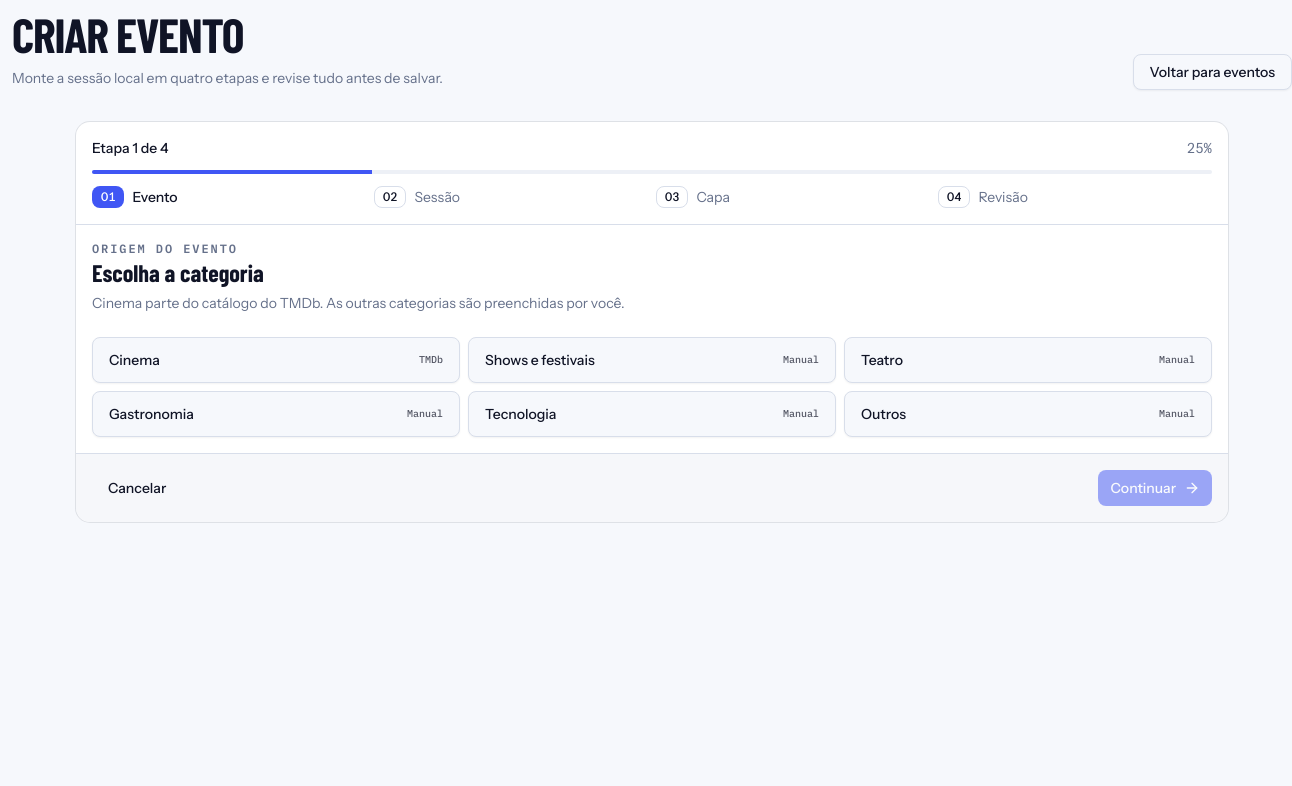
Test: EventCreationForm › shows compact movie choices and advances only after a selection
Click the button with aria-label "Cinema, catálogo TMDb".
click(134, 360)  # box [92,337,460,383]
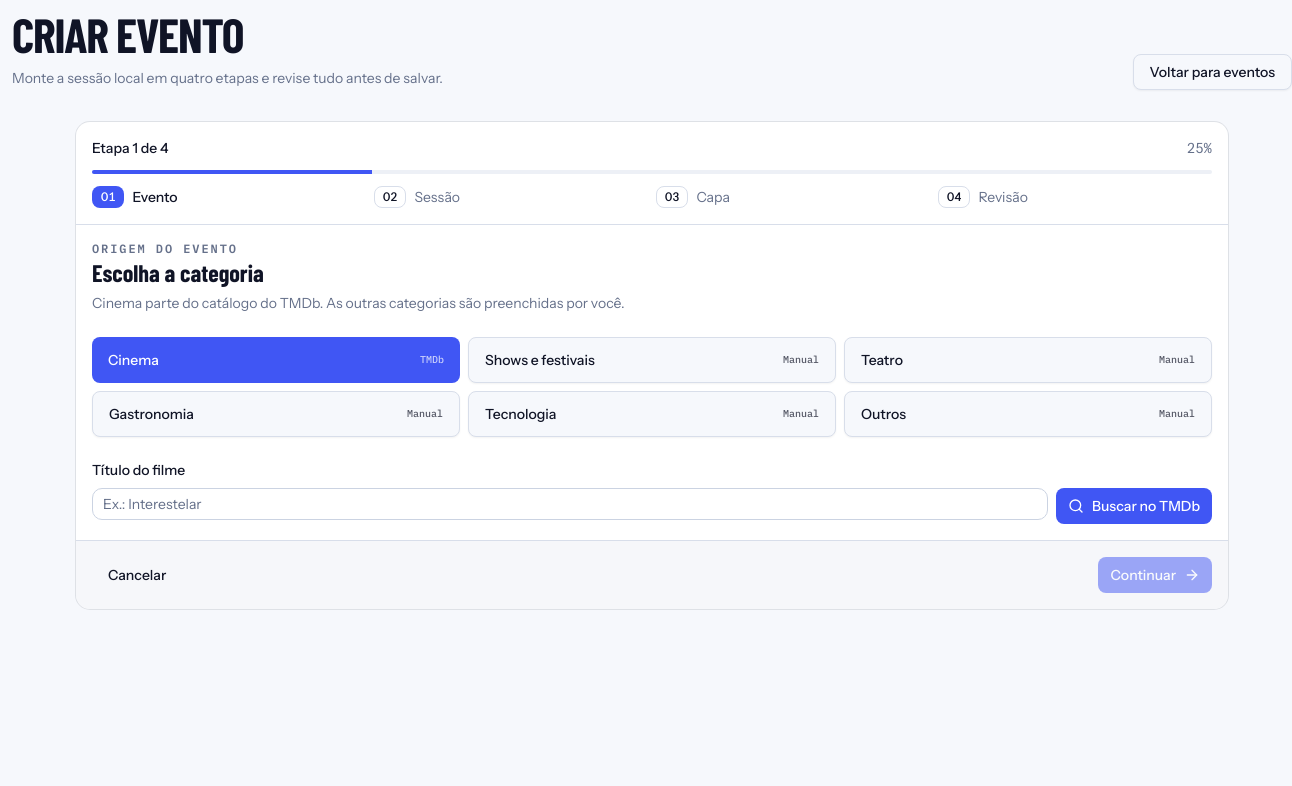
Type "Mario" into the field labelled "Título do filme".
click(570, 504); type("Mario")  # box [92,488,1048,520]
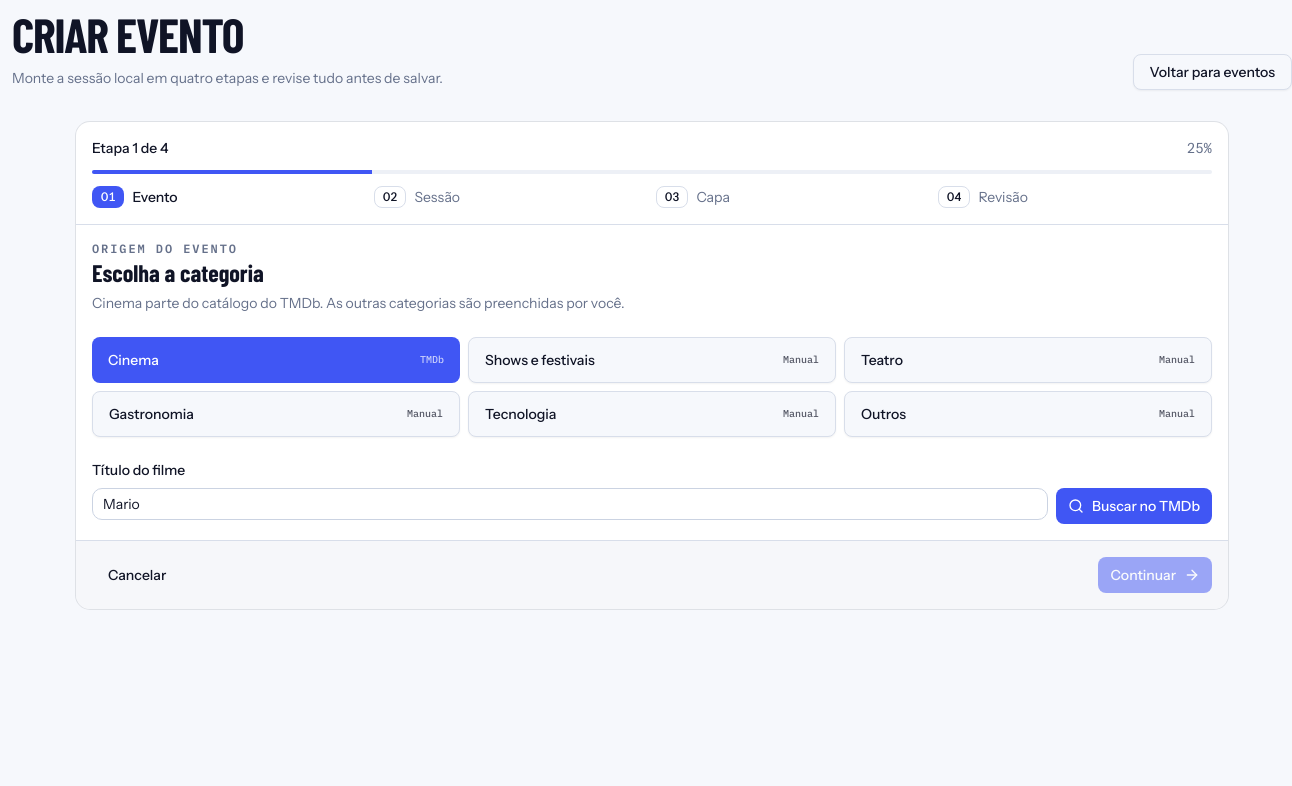
Click the button "Buscar no TMDb".
click(1134, 506)  # box [1056,488,1212,524]
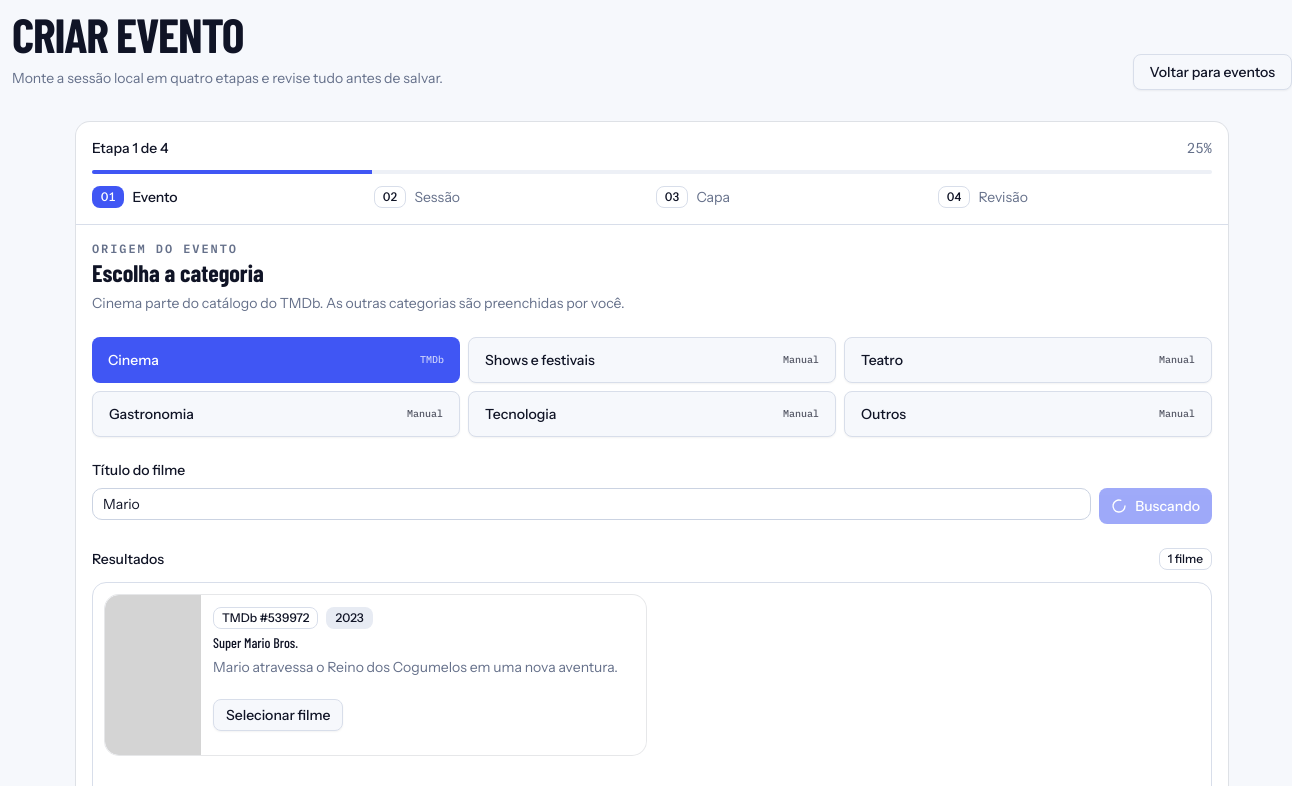
Result: the text "Super Mario Bros." is shown at [213,634,298,651]
Click the button "Selecionar filme".
click(278, 715)  # box [213,699,344,731]
(page scrolled)
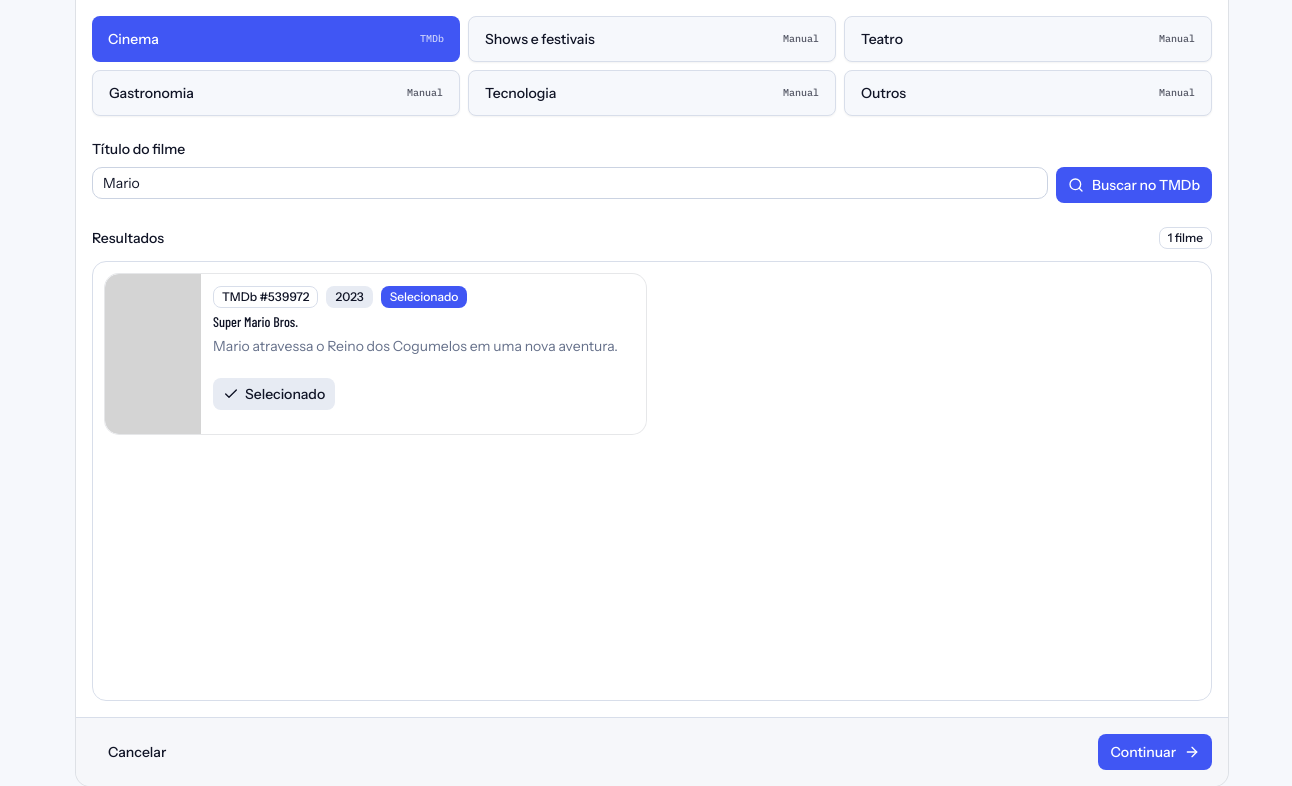
Click the button "Continuar".
click(1155, 752)  # box [1098,734,1212,770]
(page scrolled)
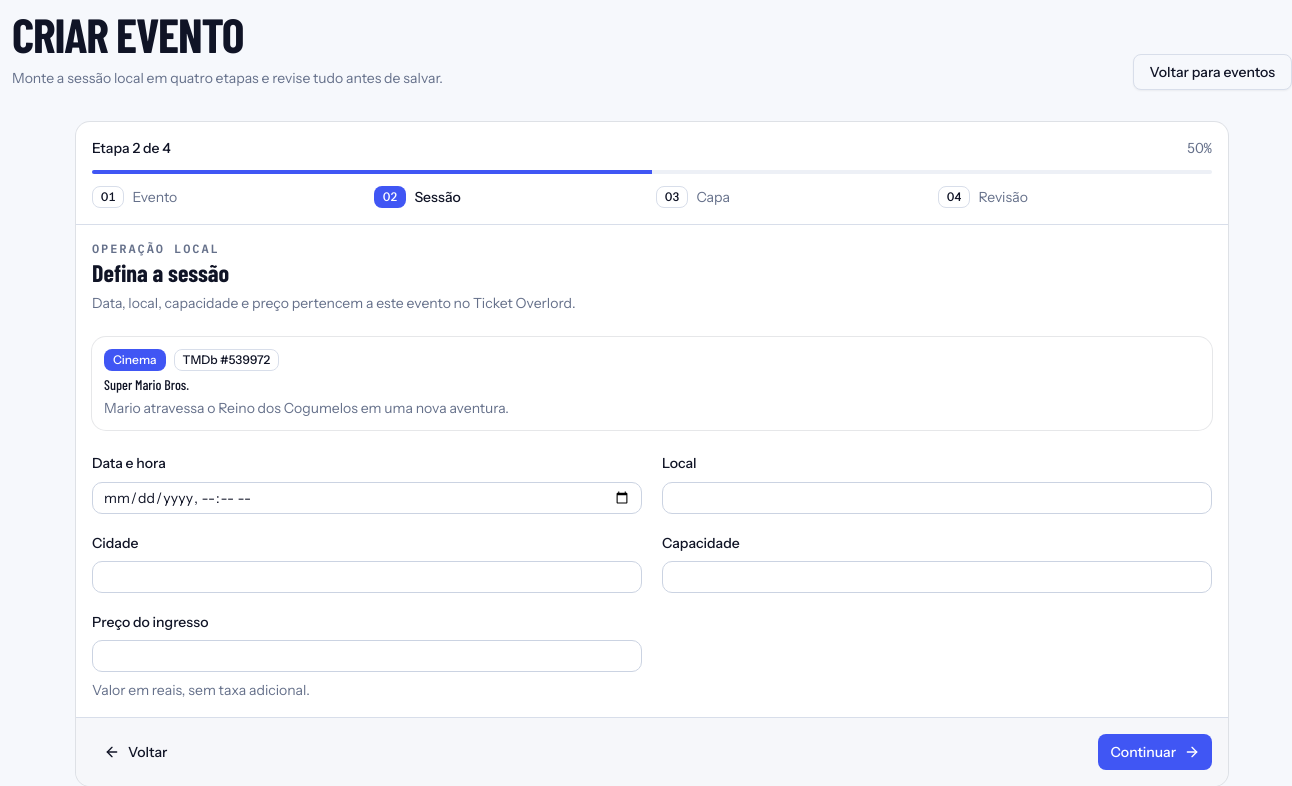
Result: the heading "Defina a sessão" is shown at [92,258,229,287]
